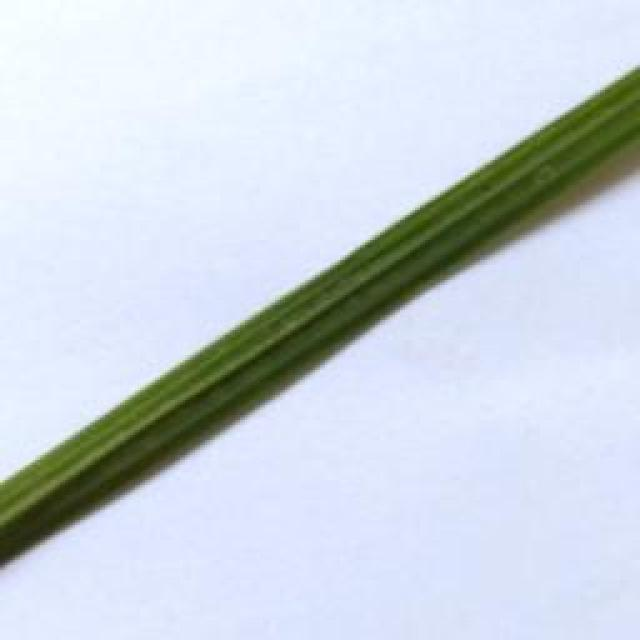Healthy-Plant: (0, 68, 640, 566)
